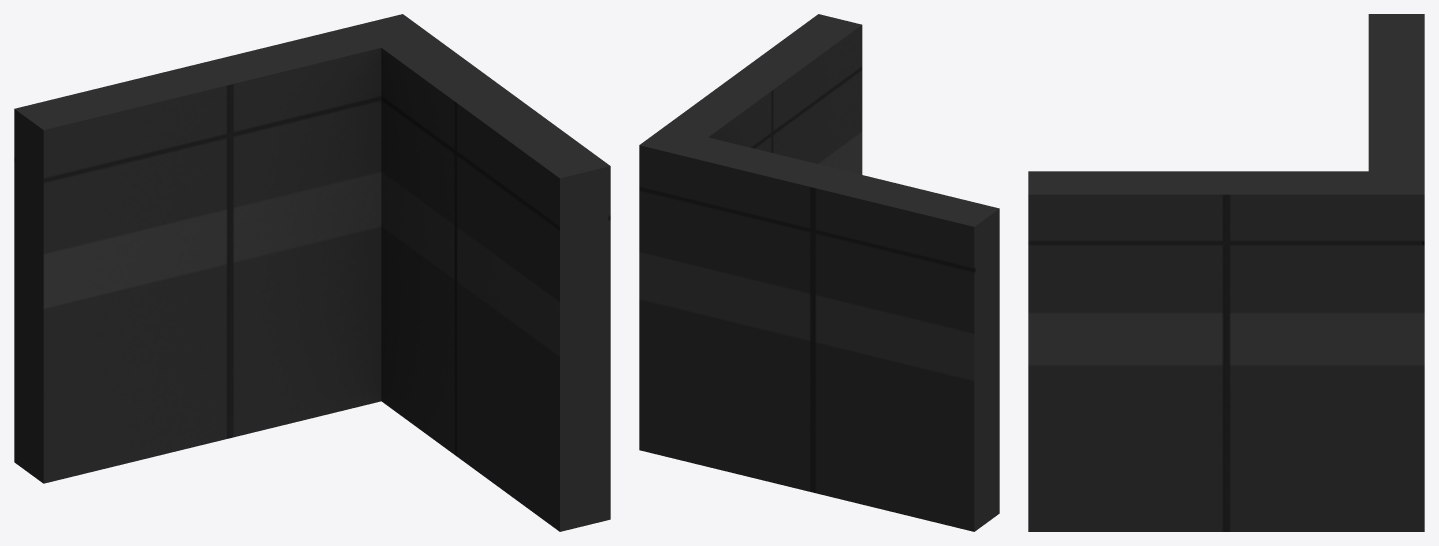
File: Corner_04.fbx
The picture shows the model from 3 angles, left to right: view 1: azimuth 30°, elevation 25°; view 2: azimuth 150°, elevation 25°; view 3: azimuth 270°, elevation 25°; orthographic projection. The views are drawn at different scales.
Parts seen in each view (by area): view 1: Corner_04 Low Poly; view 2: Corner_04 Low Poly; view 3: Corner_04 Low Poly.
Boxes of the visible parts, x1,y1,x2,y2 form: Corner_04 Low Poly: (14, 14, 610, 531); Corner_04 Low Poly: (639, 14, 999, 531); Corner_04 Low Poly: (1028, 14, 1424, 531).
Bounding box in the file's own units: 230 × 200 × 213.
1 material, 1 textured.
